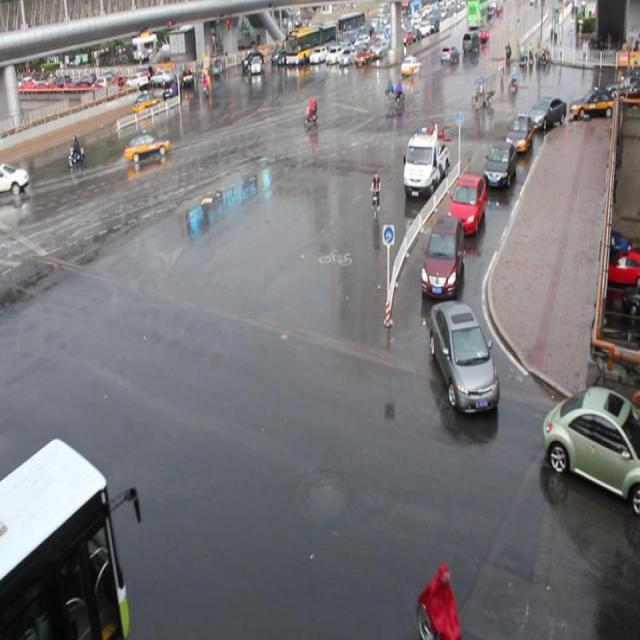bus: (401, 128, 448, 200)
car: (541, 383, 640, 508), (429, 298, 498, 413), (419, 215, 463, 296), (446, 171, 485, 232), (481, 140, 516, 187), (123, 132, 169, 164), (528, 95, 566, 130), (502, 112, 531, 153), (1, 164, 30, 196)
van: (1, 436, 129, 640)
